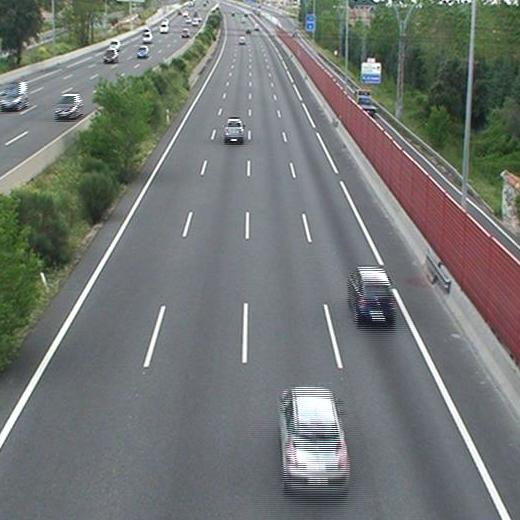car: (279, 388, 349, 491), (350, 268, 395, 321), (224, 118, 245, 143)
